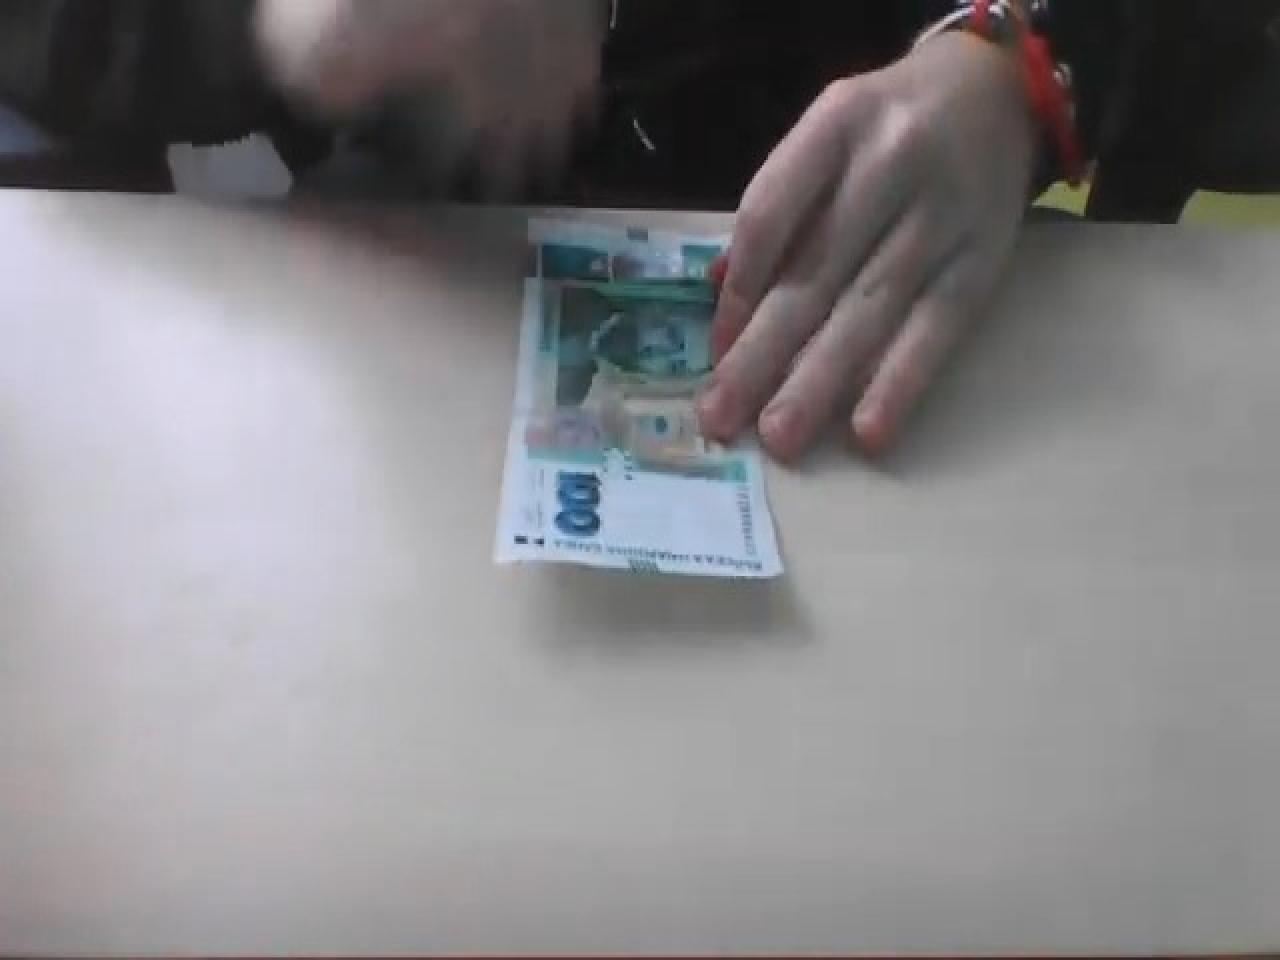100leva: (494, 216, 788, 584)
